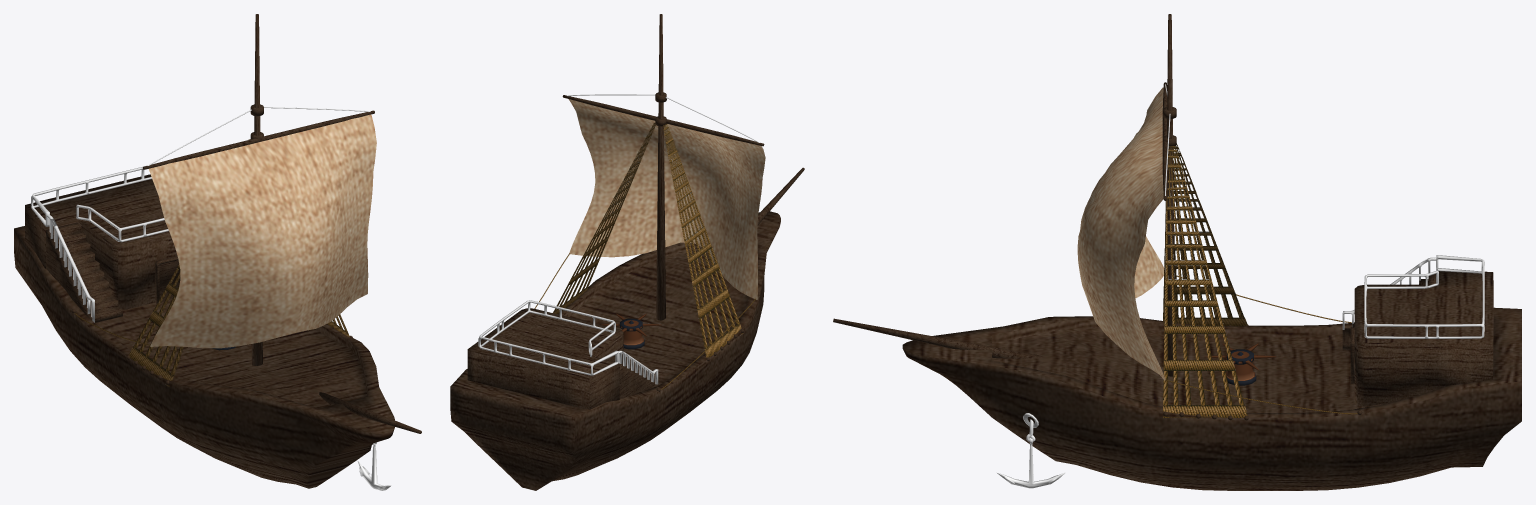
The model's file is PrototipoBarco.fbx.
3 views of the same model, side by side, from view 1: azimuth 30°, elevation 25°; view 2: azimuth 150°, elevation 25°; view 3: azimuth 270°, elevation 25° (orthographic). The views are drawn at different scales.
Visible parts, largest first — view 1: PanoDaVela, CascoDoBarco, Cabine, EscadasCabine, CorrimãoSuperior, Plane.001, SuporteVela, CorrimãoEscada, Mastro, Porta, MastroFrontal, Ancora; view 2: CascoDoBarco, PanoDaVela.001, Cabine, Plane.001, CorrimãoSuperior, Mastro, Plane.002, Plane.003, Plane, SuporteVela, EscadasCabine, CorrimãoEscada (+2 smaller); view 3: CascoDoBarco, Cabine, PanoDaVela, Plane, Plane.003, CorrimãoSuperior, MastroFrontal, Mastro, PanoDaVela.001.
Part boxes in pixels (x1,y1,x2,y2): PanoDaVela: (149,115,376,348); CascoDoBarco: (14,226,394,488); Cabine: (25,174,177,309); EscadasCabine: (46,222,122,322); CorrimãoSuperior: (31,167,168,242); Plane.001: (129,139,249,386); SuporteVela: (142,110,374,169); CorrimãoEscada: (47,214,94,322); Mastro: (251,14,262,365); Porta: (155,256,180,303); MastroFrontal: (319,392,421,433); Ancora: (357,443,390,490); CascoDoBarco: (450,211,780,490); PanoDaVela.001: (568,99,764,299); Cabine: (467,308,623,409); Plane.001: (664,124,743,357); CorrimãoSuperior: (478,300,619,375); Mastro: (656,14,665,320); Plane.002: (553,123,655,313); Plane.003: (663,125,737,357); Plane: (553,123,655,312); SuporteVela: (562,95,764,146); EscadasCabine: (595,357,658,398); CorrimãoEscada: (619,350,658,384); CascoDoBarco: (902,307,1521,490); Cabine: (1354,271,1493,406); PanoDaVela: (1077,87,1164,380); Plane: (1163,146,1247,417); Plane.003: (1163,144,1247,326); CorrimãoSuperior: (1364,255,1484,338); MastroFrontal: (833,318,1042,358); Mastro: (1165,14,1174,376); PanoDaVela.001: (1133,88,1165,379).
Bounding box in the file's own units: 338 × 642 × 851.
6 materials, 4 textured.
